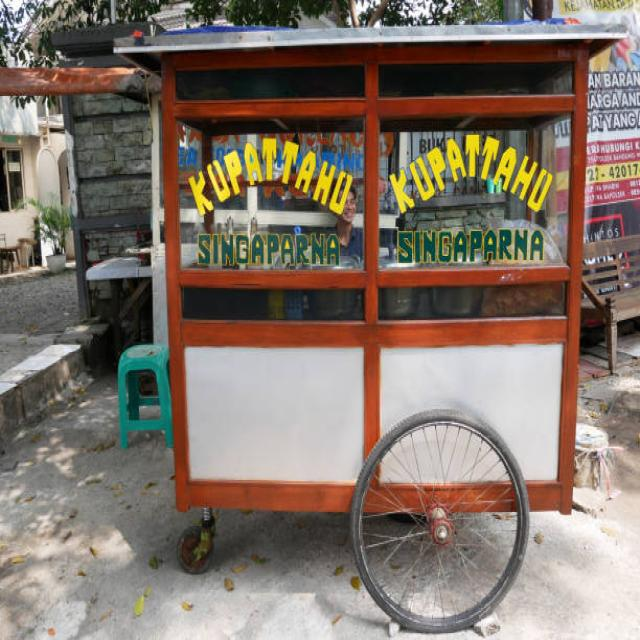Emperan: (110, 6, 633, 640)
